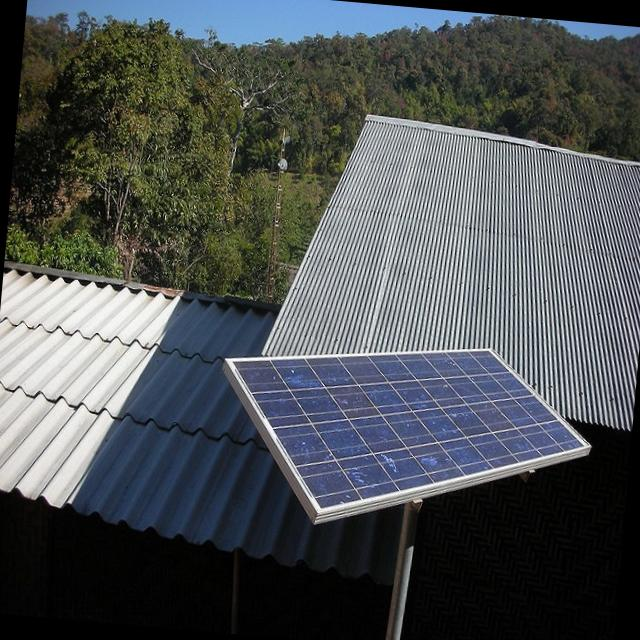faulty: (236, 346, 582, 513)
